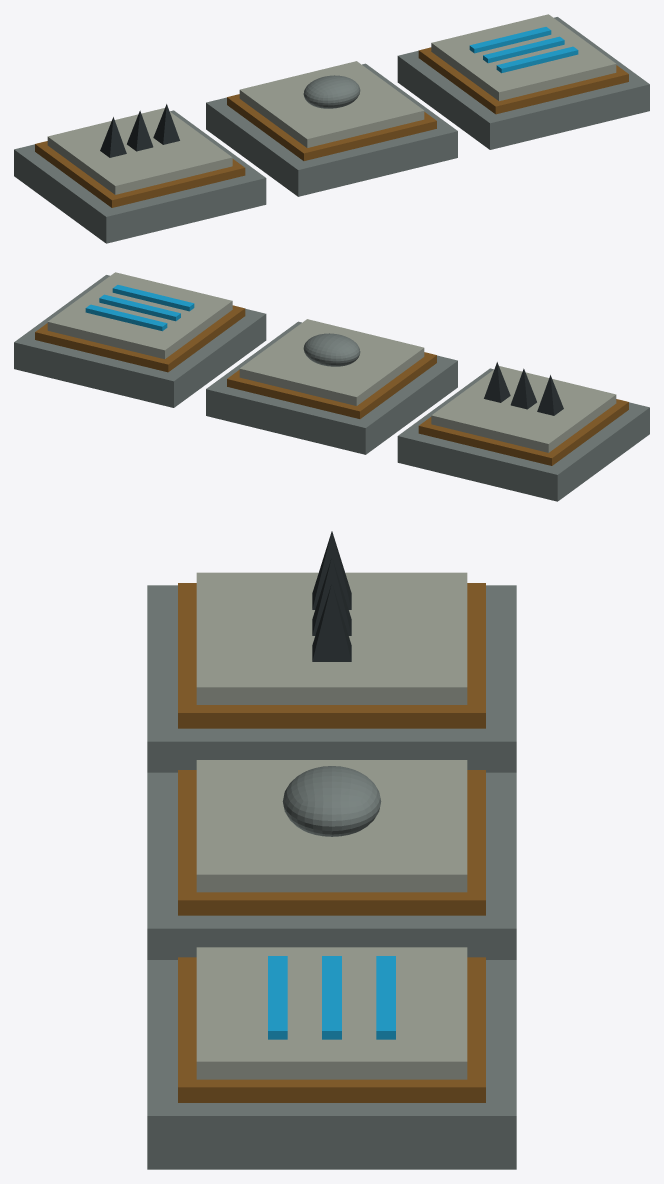
Rendered from MOV_DOOR_SEQUENCE_3_02.obj.
3 renders of one model, top to bottom at view 1: azimuth 30°, elevation 25°; view 2: azimuth 150°, elevation 25°; view 3: azimuth 270°, elevation 25°, orthographic. The views are drawn at different scales.
Parts seen in each view (by area): view 1: Part_10, Part_0, Part_6, Part_8, Part_12, Part_2, Part_1, Part_11, Part_7, Part_9, Part_3, Part_5 (+4 smaller); view 2: Part_10, Part_0, Part_6, Part_8, Part_12, Part_2, Part_1, Part_11, Part_7, Part_9, Part_5, Part_3 (+4 smaller); view 3: Part_0, Part_12, Part_2, Part_8, Part_6, Part_10, Part_1, Part_7, Part_11, Part_9, Part_13, Part_3 (+4 smaller).
Part boxes in pixels (<box>): Part_10: <box>14,110,266,243</box>; Part_0: <box>397,17,649,149</box>; Part_6: <box>206,63,457,196</box>; Part_8: <box>239,61,424,147</box>; Part_12: <box>47,108,232,194</box>; Part_2: <box>431,14,616,101</box>; Part_1: <box>418,47,628,114</box>; Part_11: <box>35,141,245,207</box>; Part_7: <box>227,94,436,160</box>; Part_9: <box>303,75,360,108</box>; Part_3: <box>469,27,551,53</box>; Part_5: <box>496,46,578,73</box>; Part_10: <box>397,368,649,501</box>; Part_0: <box>14,275,266,407</box>; Part_6: <box>206,321,457,454</box>; Part_8: <box>239,319,424,405</box>; Part_12: <box>431,366,616,452</box>; Part_2: <box>47,272,232,359</box>; Part_1: <box>35,305,245,372</box>; Part_11: <box>418,399,628,465</box>; Part_7: <box>227,352,436,418</box>; Part_9: <box>303,333,360,366</box>; Part_5: <box>112,285,194,311</box>; Part_3: <box>85,304,167,331</box>; Part_0: <box>147,960,516,1169</box>; Part_12: <box>196,572,467,704</box>; Part_2: <box>196,947,467,1079</box>; Part_8: <box>196,760,467,892</box>; Part_6: <box>147,772,516,959</box>; Part_10: <box>147,585,516,772</box>; Part_1: <box>178,957,485,1102</box>; Part_7: <box>178,770,485,915</box>; Part_11: <box>178,583,485,728</box>; Part_9: <box>282,766,381,836</box>; Part_13: <box>312,583,351,661</box>; Part_3: <box>376,956,395,1039</box>.
Bounding box in the file's own units: 5.1 × 0.72 × 1.5.
